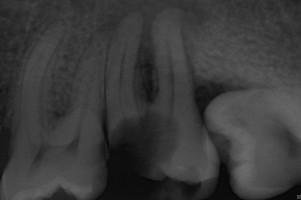Dental Caries: (96, 0, 207, 103)
